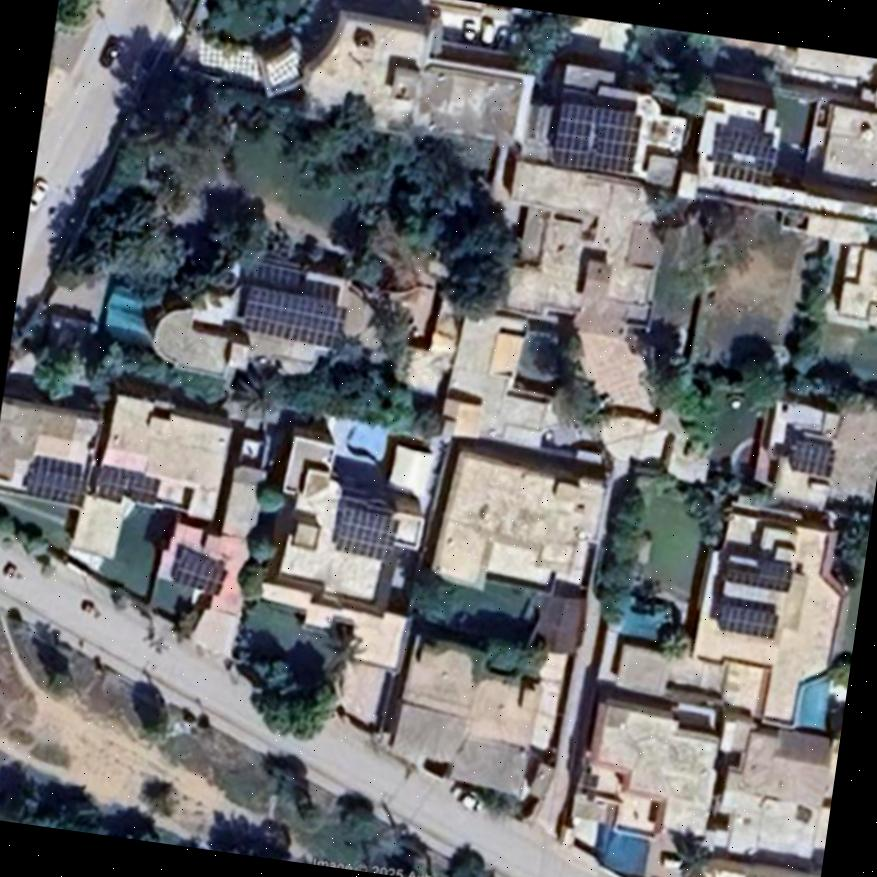Solarpanel: (551, 99, 642, 172), (241, 286, 345, 346), (333, 503, 399, 559), (712, 134, 776, 184), (722, 552, 791, 591), (92, 464, 157, 505), (172, 549, 225, 592), (24, 468, 87, 501), (718, 603, 778, 637), (793, 443, 834, 472)
